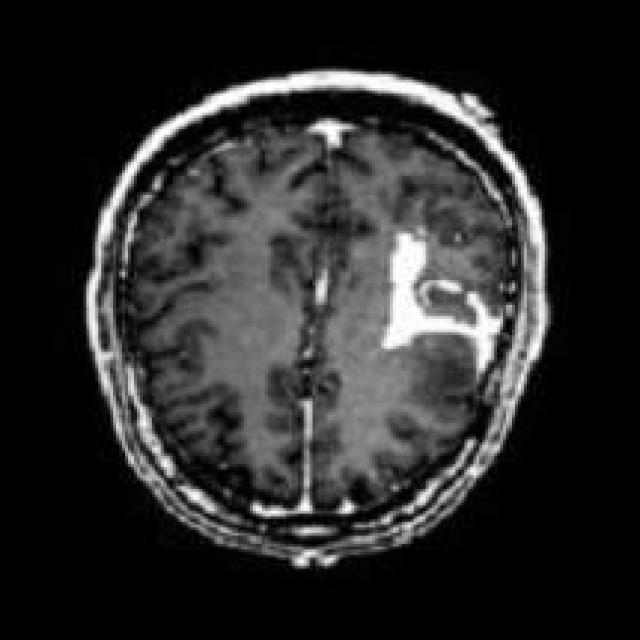Tumor-Cell: (377, 222, 489, 396)
